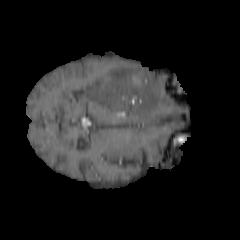glioma: (80, 64, 161, 119)
